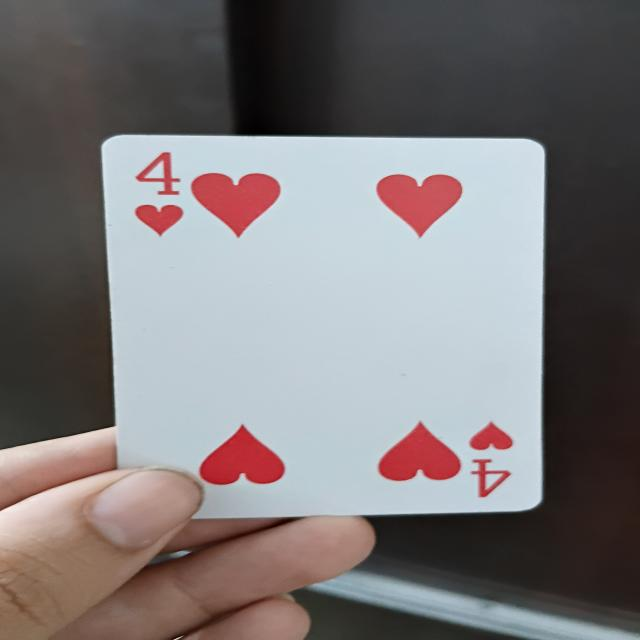4H: (95, 138, 541, 505)
